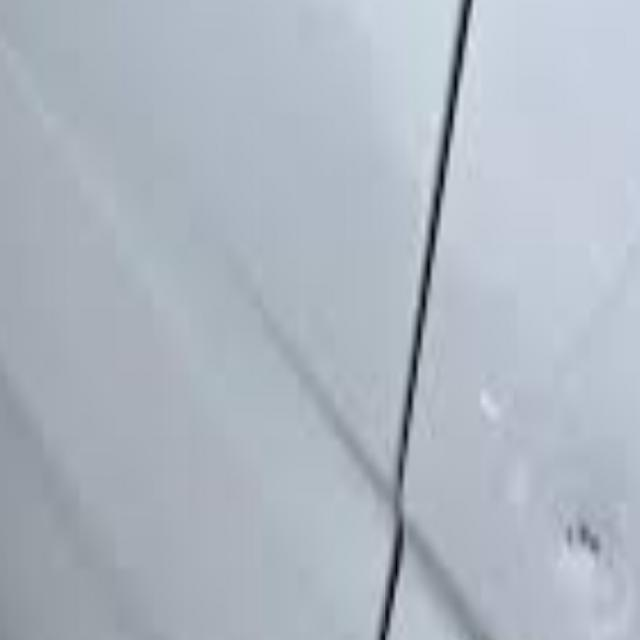dents: (551, 492, 637, 596), (471, 374, 520, 446)
